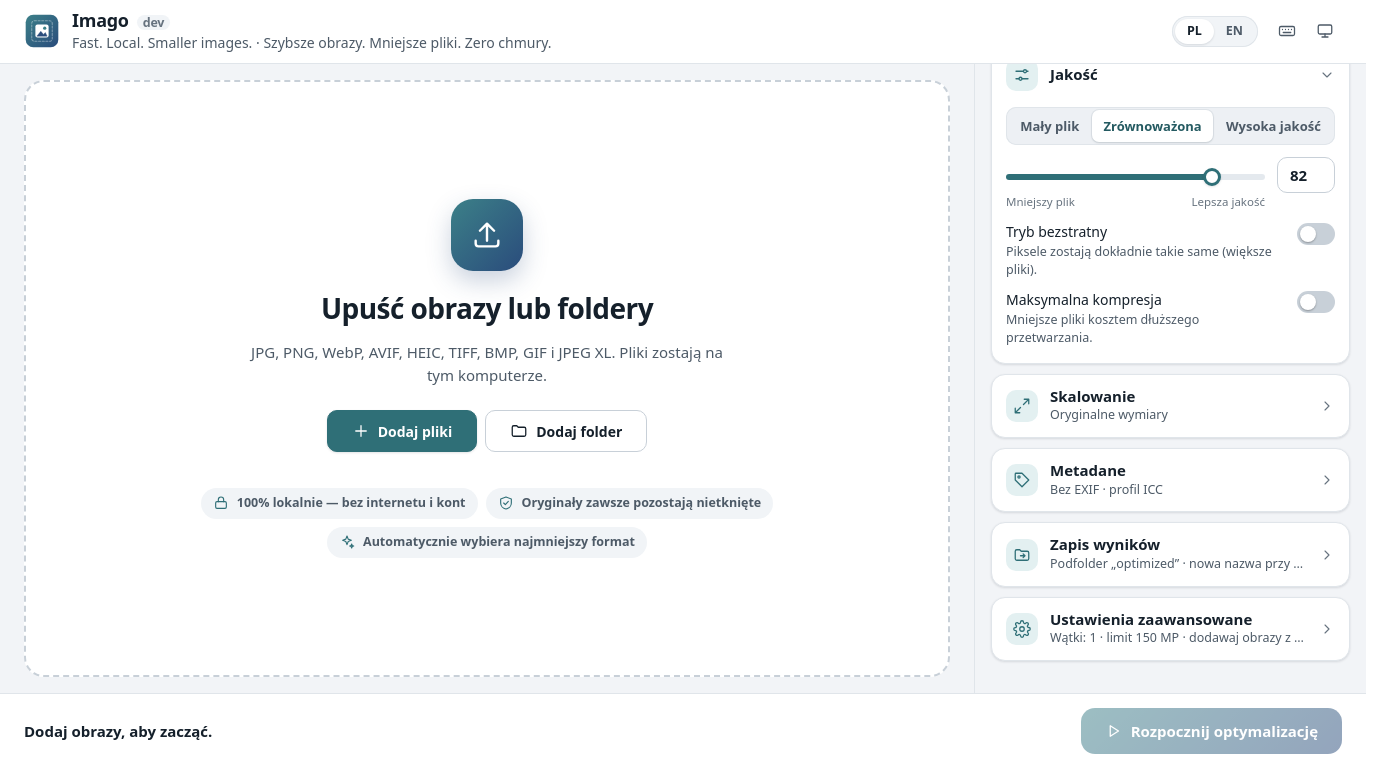
Test: App › collapses settings cards into one-line summaries
This screenshot has width=1378, height=768.
(page scrolled)
Expected: the text "Oryginalne wymiary" is shown, [1050,406,1168,423]
What coordinates should you click on to do the following:
click the button "Skalowanie Oryginalne wymiary"
I would click on:
 (1170, 406)
Its box is [992,375,1349,437].
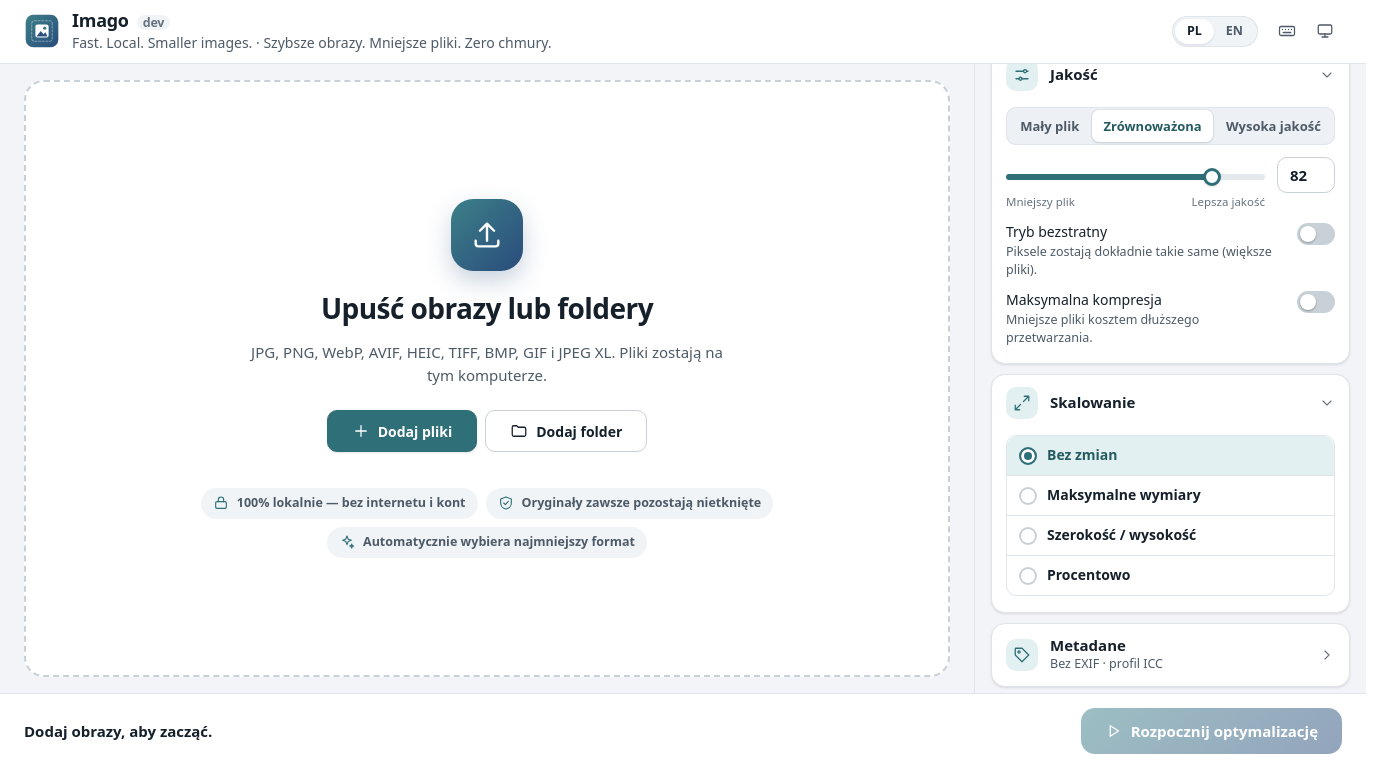
Now the button "Skalowanie" is expanded, box [992,375,1349,431]
Now the radio button labelled "Maksymalne wymiary" is shown, box [1019,487,1037,505]
